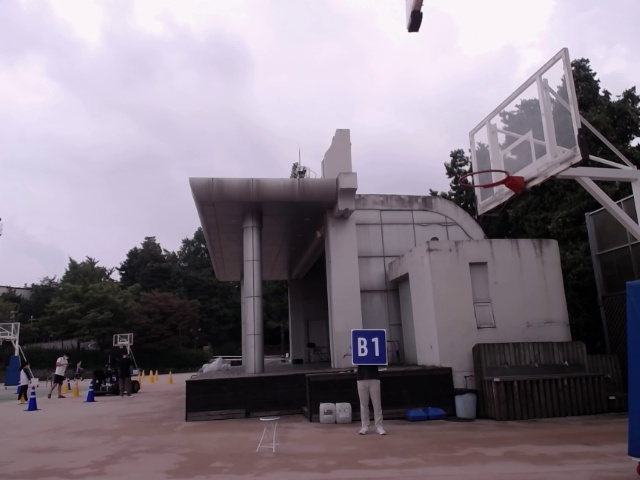delivery_b1: (351, 329, 387, 365)
